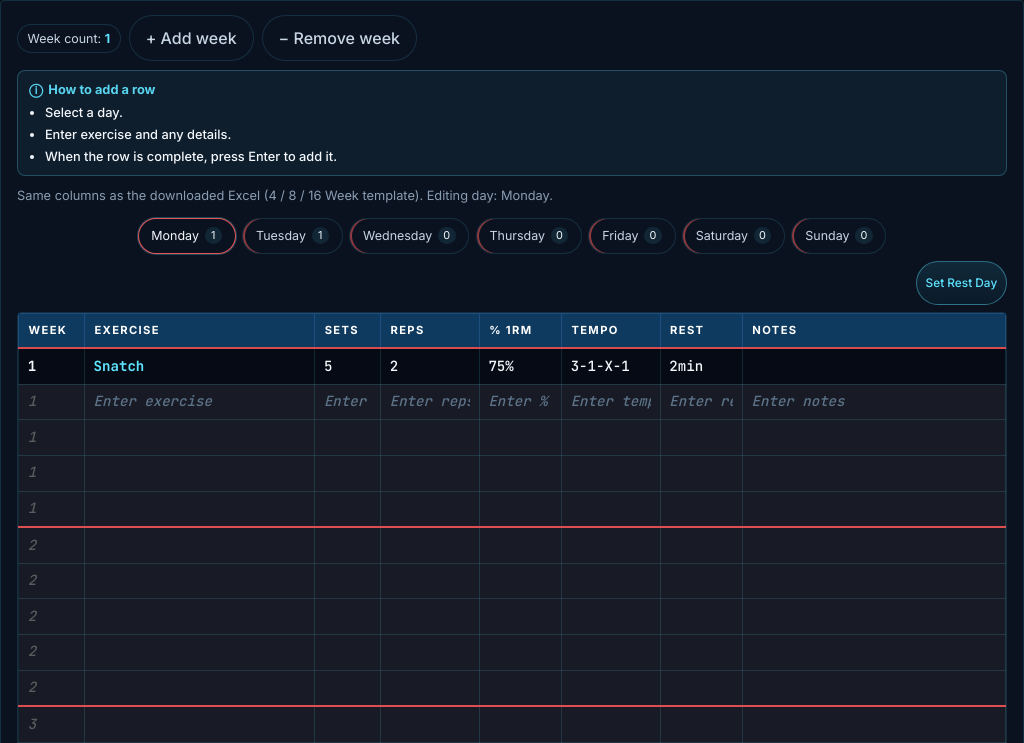
Test: SpreadsheetEditor › shows only active-day rows in the grid
Expected: the 2nd field showing "Snatch" is shown, [85,349,314,384]
Expected: the field showing "Clean & Jerk" is not shown
Click the tab "Tuesday 1". click: (293, 236)
box: [242,218,343,254]
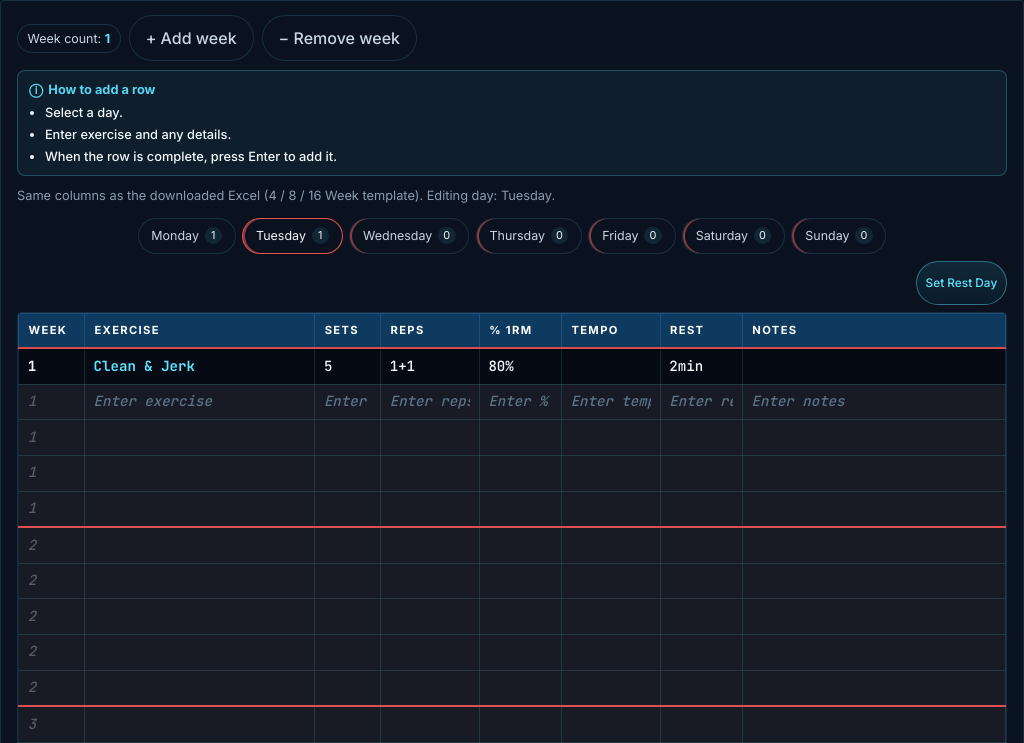
Expected: the field showing "Snatch" is not shown
Expected: the 2nd field showing "Clean & Jerk" is shown, [85,349,314,384]
